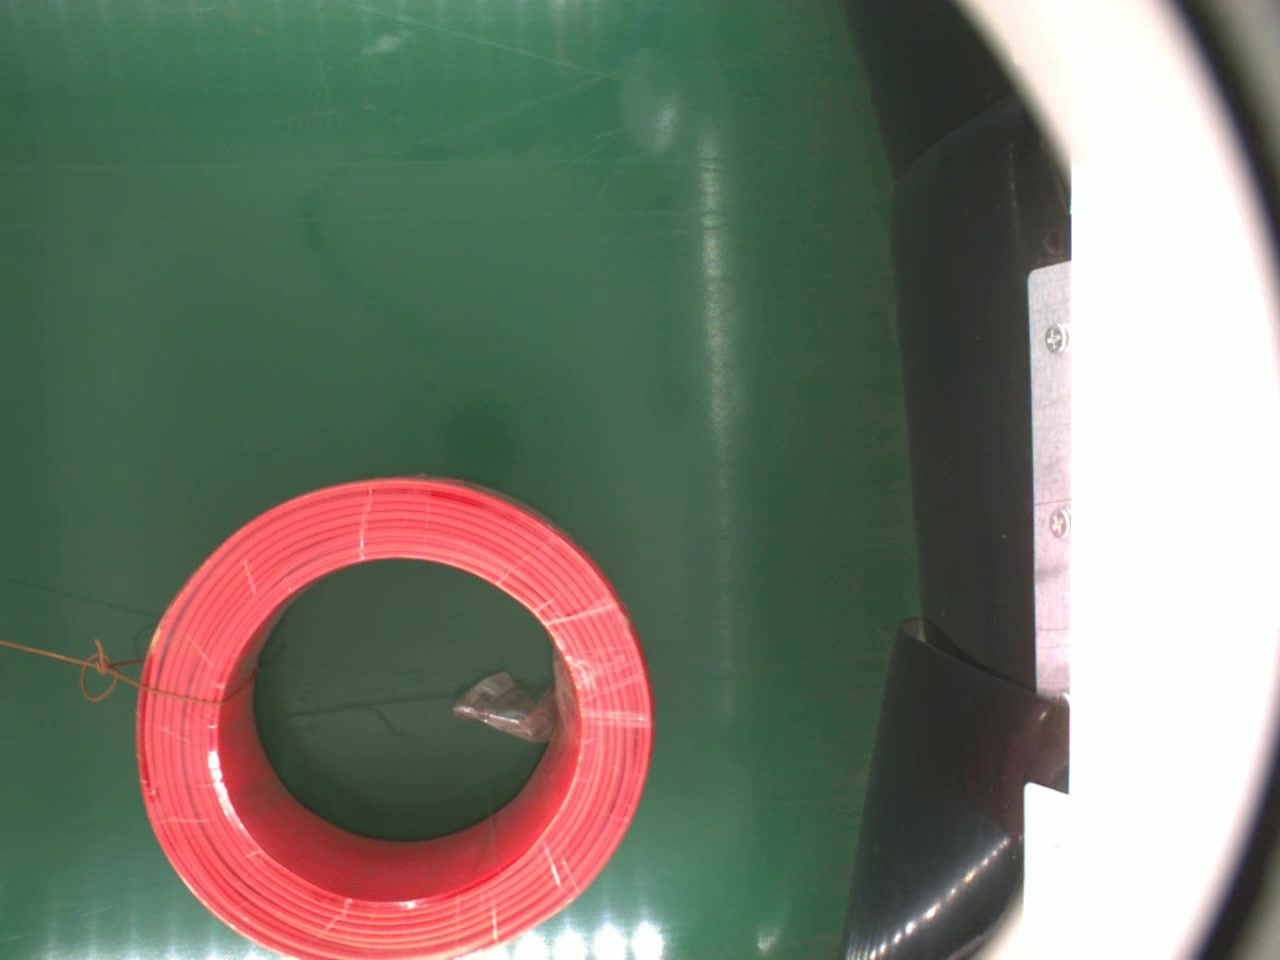red: (130, 471, 658, 960)
